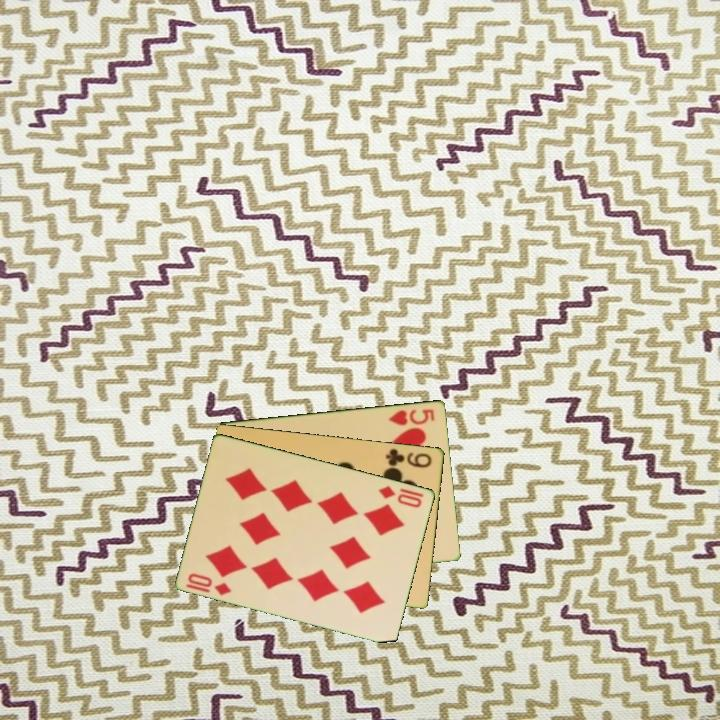10d: (375, 482, 427, 511), (183, 569, 235, 598)
5h: (385, 405, 438, 428)
9c: (382, 445, 435, 470)
